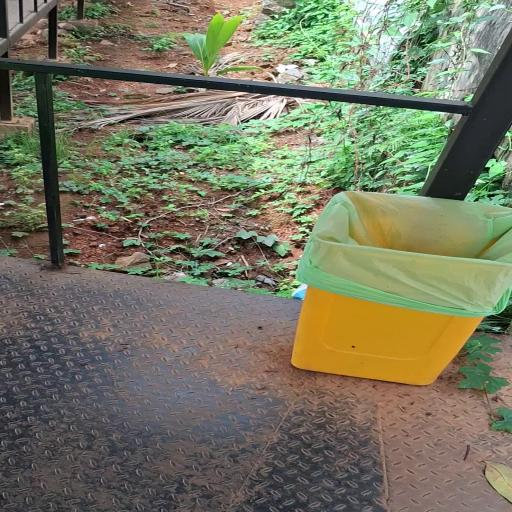Nilkamal-dustbin-detection: (292, 191, 512, 385)
